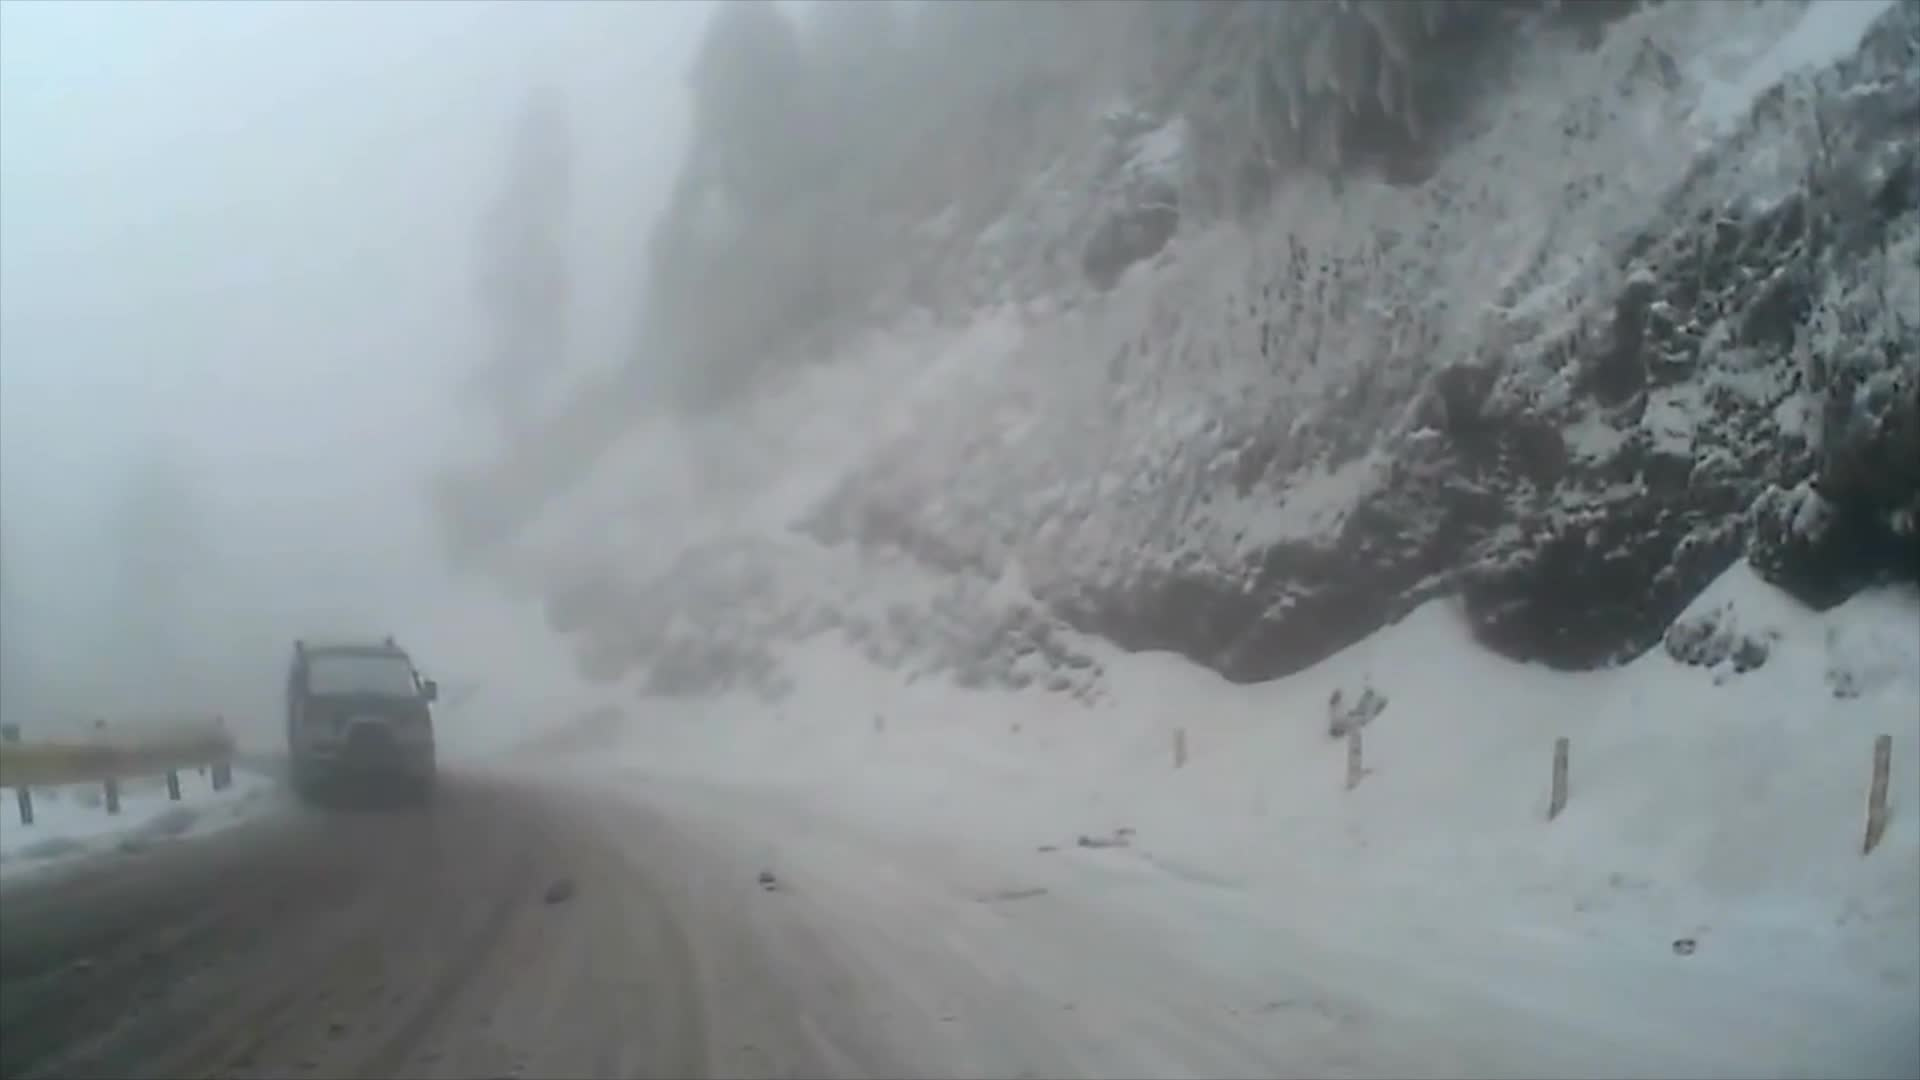vehicle: (282, 632, 436, 810)
